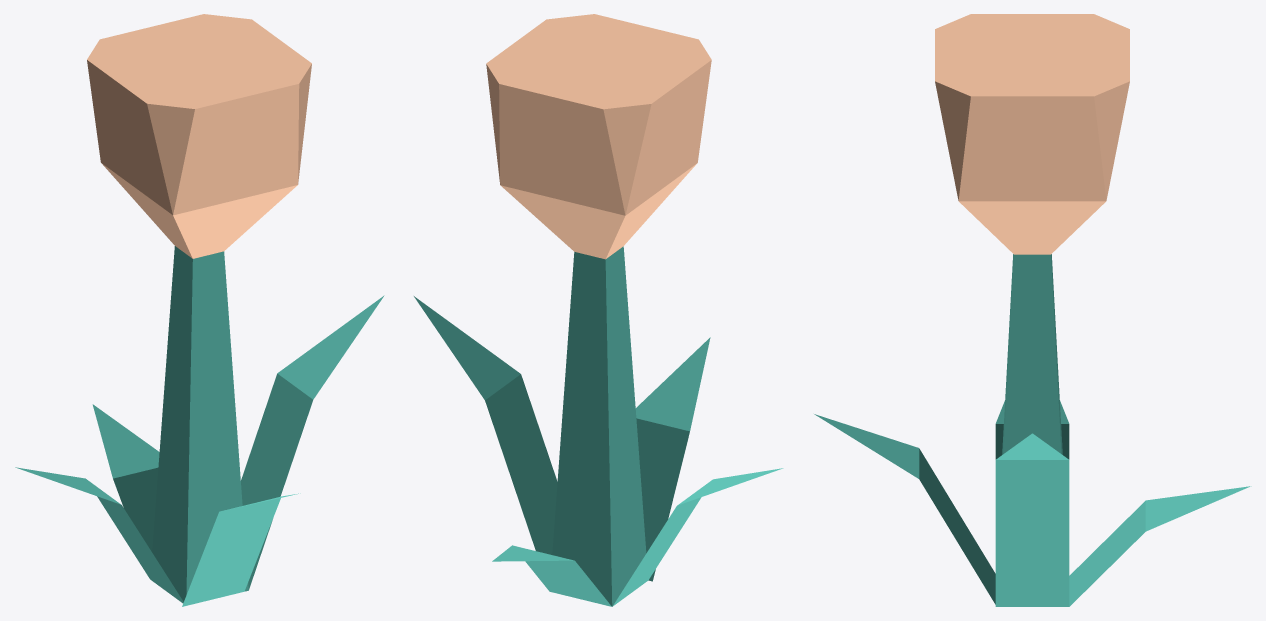
File: flower_beige1.obj
3 renders of one model, left to right at view 1: azimuth 30°, elevation 25°; view 2: azimuth 150°, elevation 25°; view 3: azimuth 270°, elevation 25°, orthographic. The views are drawn at different scales.
Parts seen in each view (by area): view 1: flower_beige1; view 2: flower_beige1; view 3: flower_beige1.
Boxes of the visible parts, left/top/right/bottom form: flower_beige1: left=15, top=14, right=384, bottom=606; flower_beige1: left=414, top=14, right=783, bottom=606; flower_beige1: left=814, top=14, right=1251, bottom=606.
Size of the model in its own units: 2.08 by 2.8 by 2.08.
